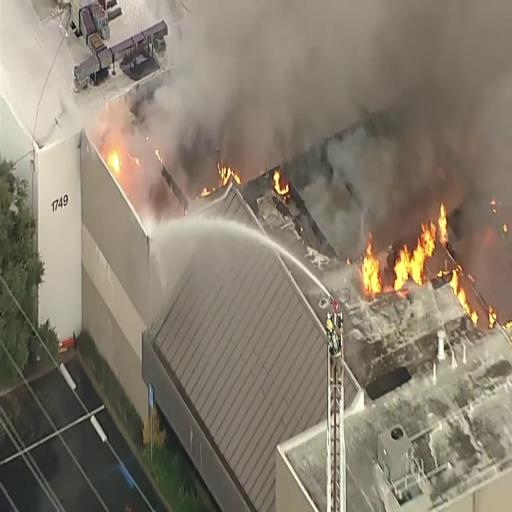fire: (358, 235, 426, 293), (416, 202, 455, 254)
smoke: (214, 34, 424, 160)
